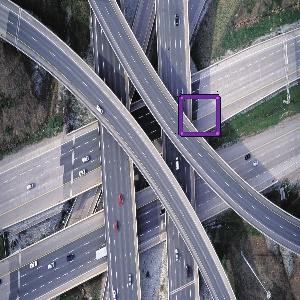square: (176, 91, 224, 138)
